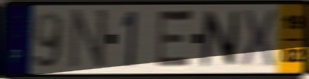1: (120, 9, 139, 70)
9: (31, 10, 69, 69)
E: (154, 7, 195, 72)
N: (67, 8, 110, 73), (198, 10, 242, 69)
X: (239, 7, 279, 70)
